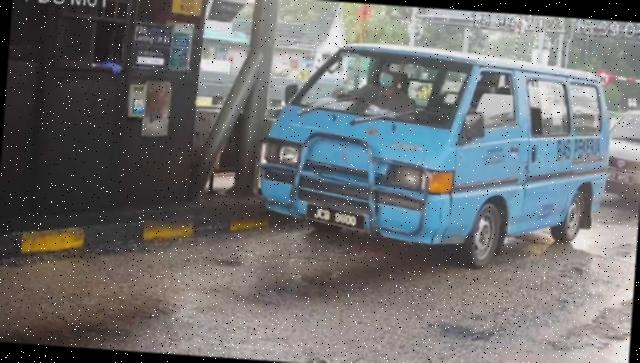License_Plate: (305, 203, 369, 233)
van: (250, 36, 617, 279)
